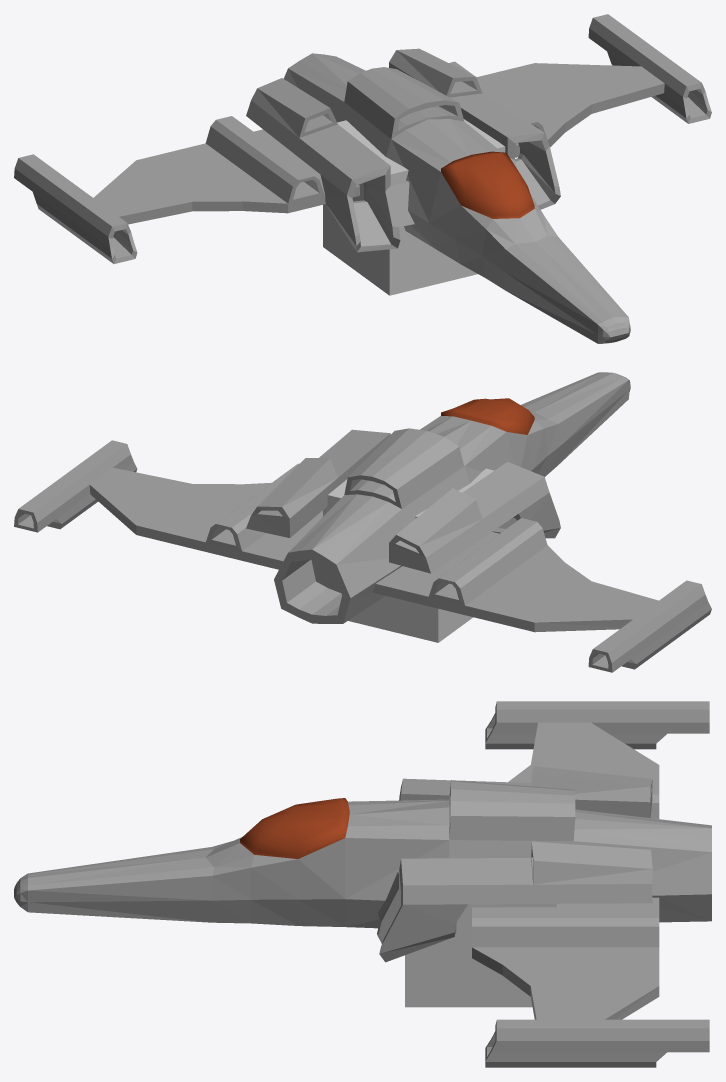
Rendered from spaceship3.obj.
The picture shows the model from 3 angles, top to bottom: view 1: azimuth 30°, elevation 25°; view 2: azimuth 150°, elevation 25°; view 3: azimuth 270°, elevation 25°; orthographic projection. The views are drawn at different scales.
Visible parts, largest first — view 1: Spaceship3_Cube, Cube; view 2: Spaceship3_Cube, Cube; view 3: Spaceship3_Cube, Cube.
Boxes of the visible parts, left/top/right/bottom form: Spaceship3_Cube: left=14, top=14, right=711, bottom=343; Cube: left=323, top=119, right=505, bottom=295; Spaceship3_Cube: left=14, top=372, right=711, bottom=672; Cube: left=323, top=468, right=493, bottom=642; Spaceship3_Cube: left=14, top=701, right=711, bottom=1067; Cube: left=405, top=904, right=556, bottom=1007.
Size of the model in its own units: 10.38 by 2.71 by 9.21.
